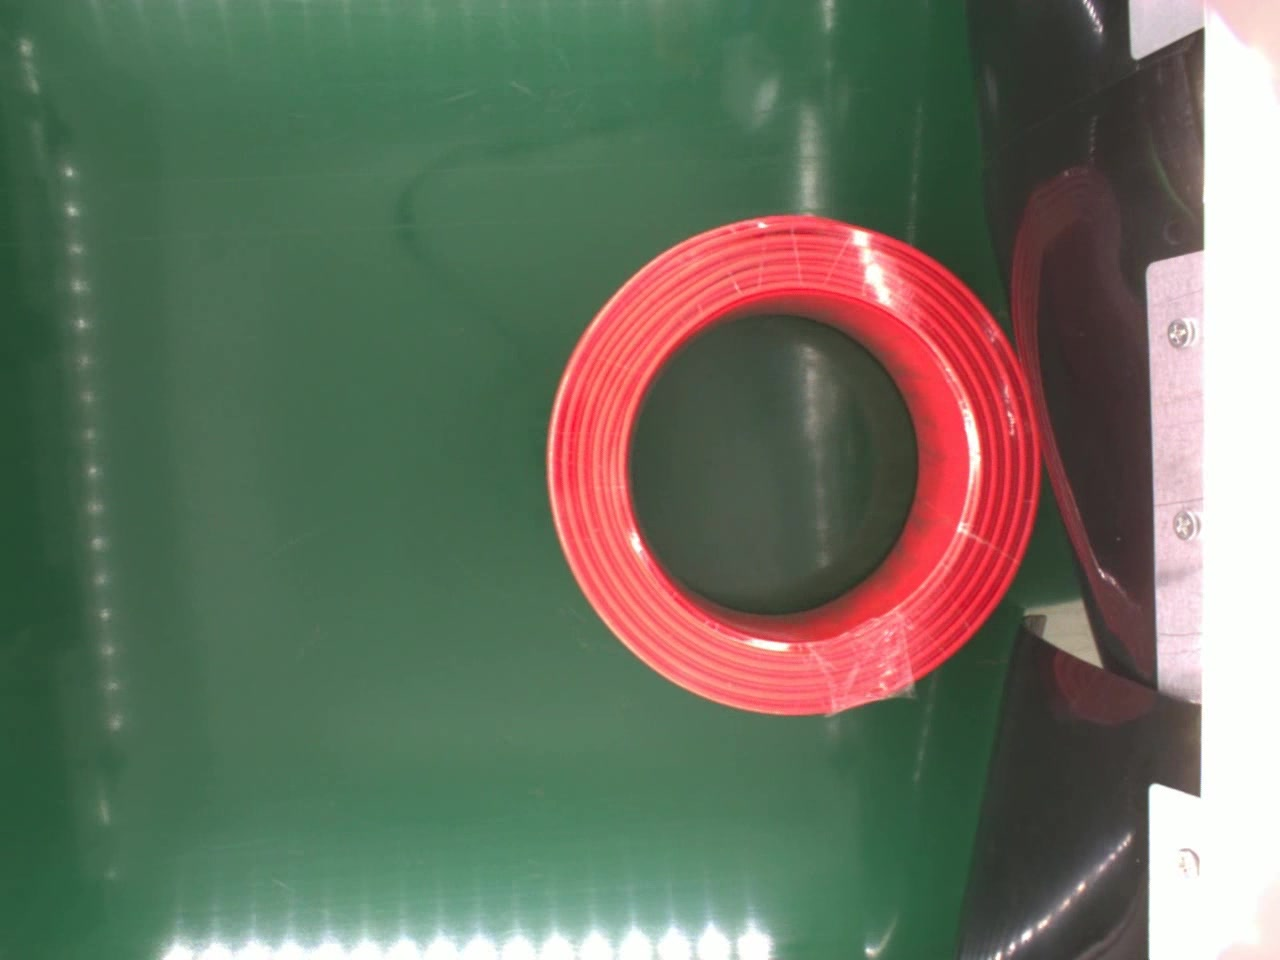red: (543, 213, 1044, 721)
